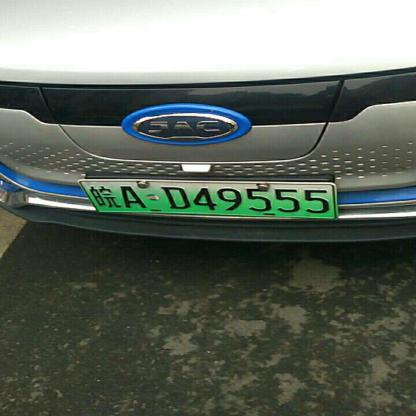lp: (81, 180, 335, 218)
